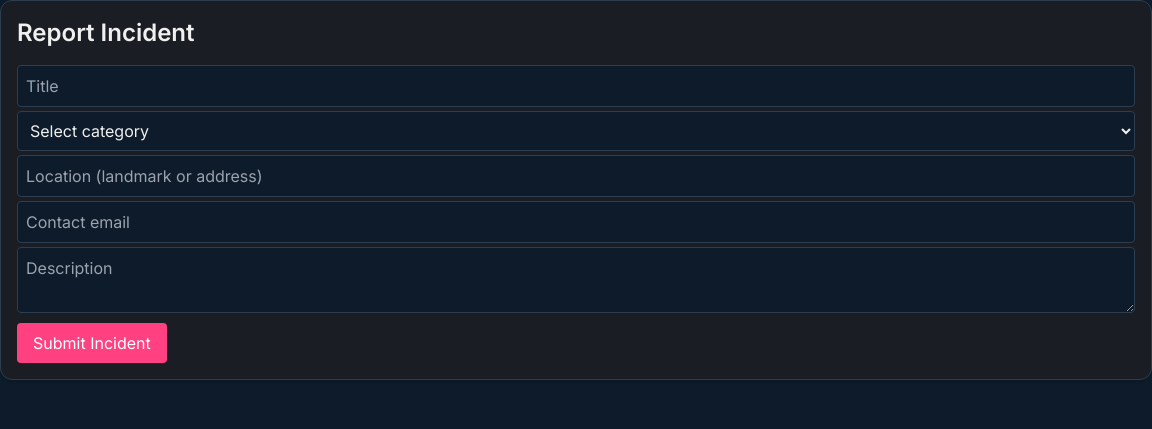
it: IncidentForm › shows fallback error message on generic failure
Type "Valid Title" into the field with placeholder "Title".
click(576, 86); type("Valid Title")  # box [17,65,1135,107]
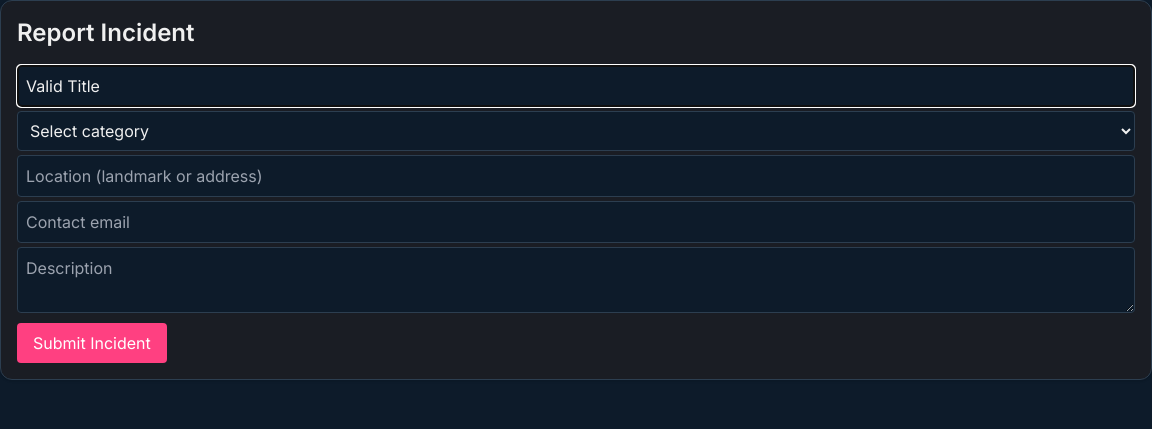
Select "road maintenance" in the dropdown named "category" at (576, 131), box [17,111,1135,151]
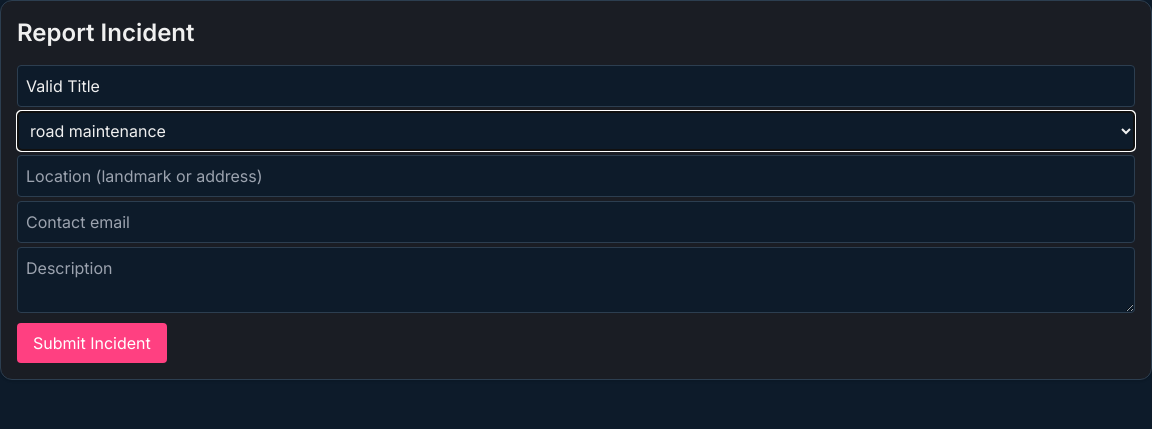
Type "Valid description" into the text box with placeholder "Description".
click(576, 280); type("Valid description")  # box [17,247,1135,313]
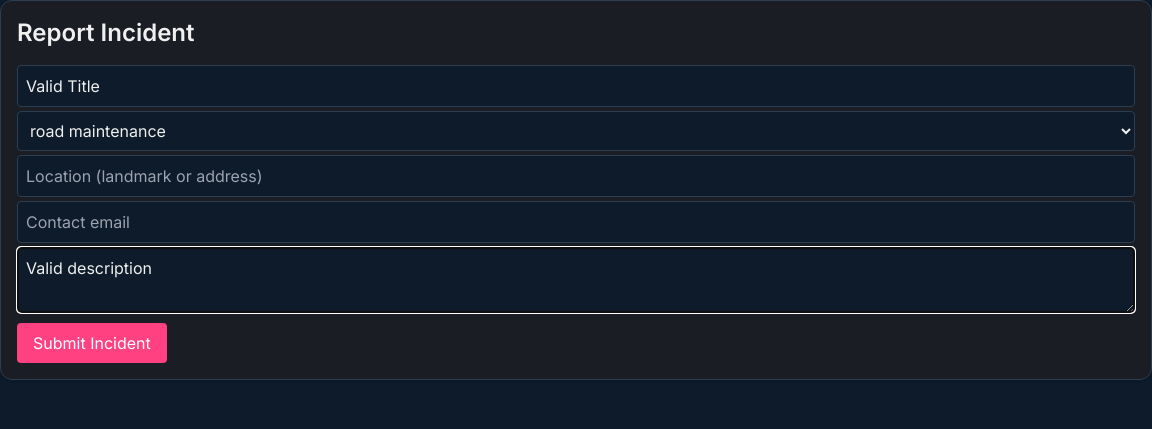
Click the button "Submit Incident".
click(92, 343)  # box [17,323,167,363]
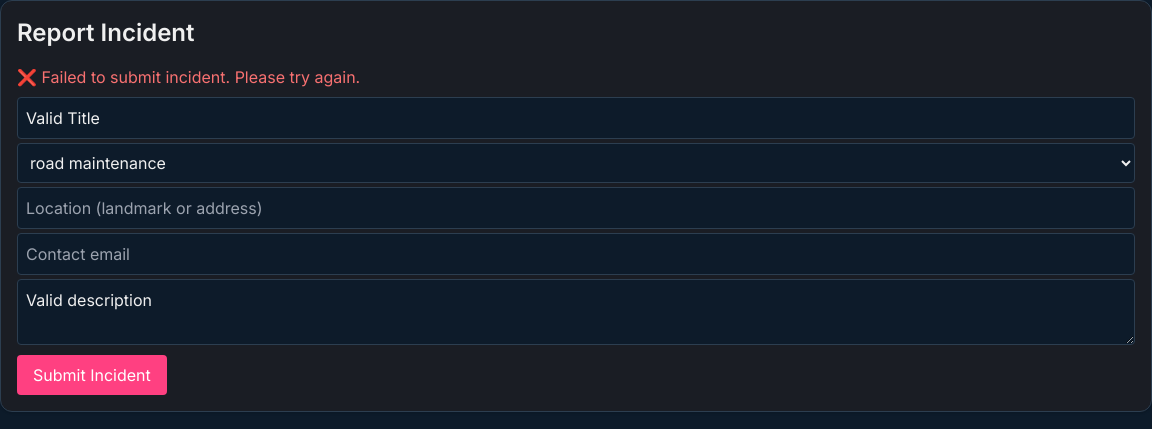
expect the text "❌ Failed to submit incident. Please try again." is shown: met, box [17,67,360,87]
